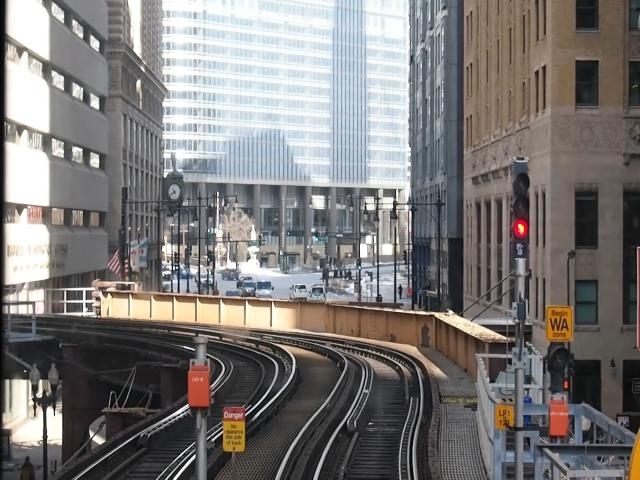signal light: (511, 171, 534, 260)
